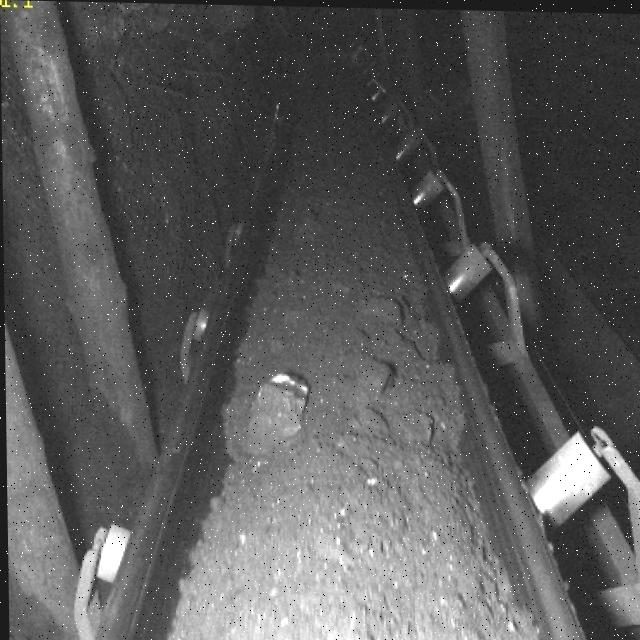large_sized_coal: (236, 372, 306, 447), (353, 287, 406, 324), (350, 361, 397, 394)
